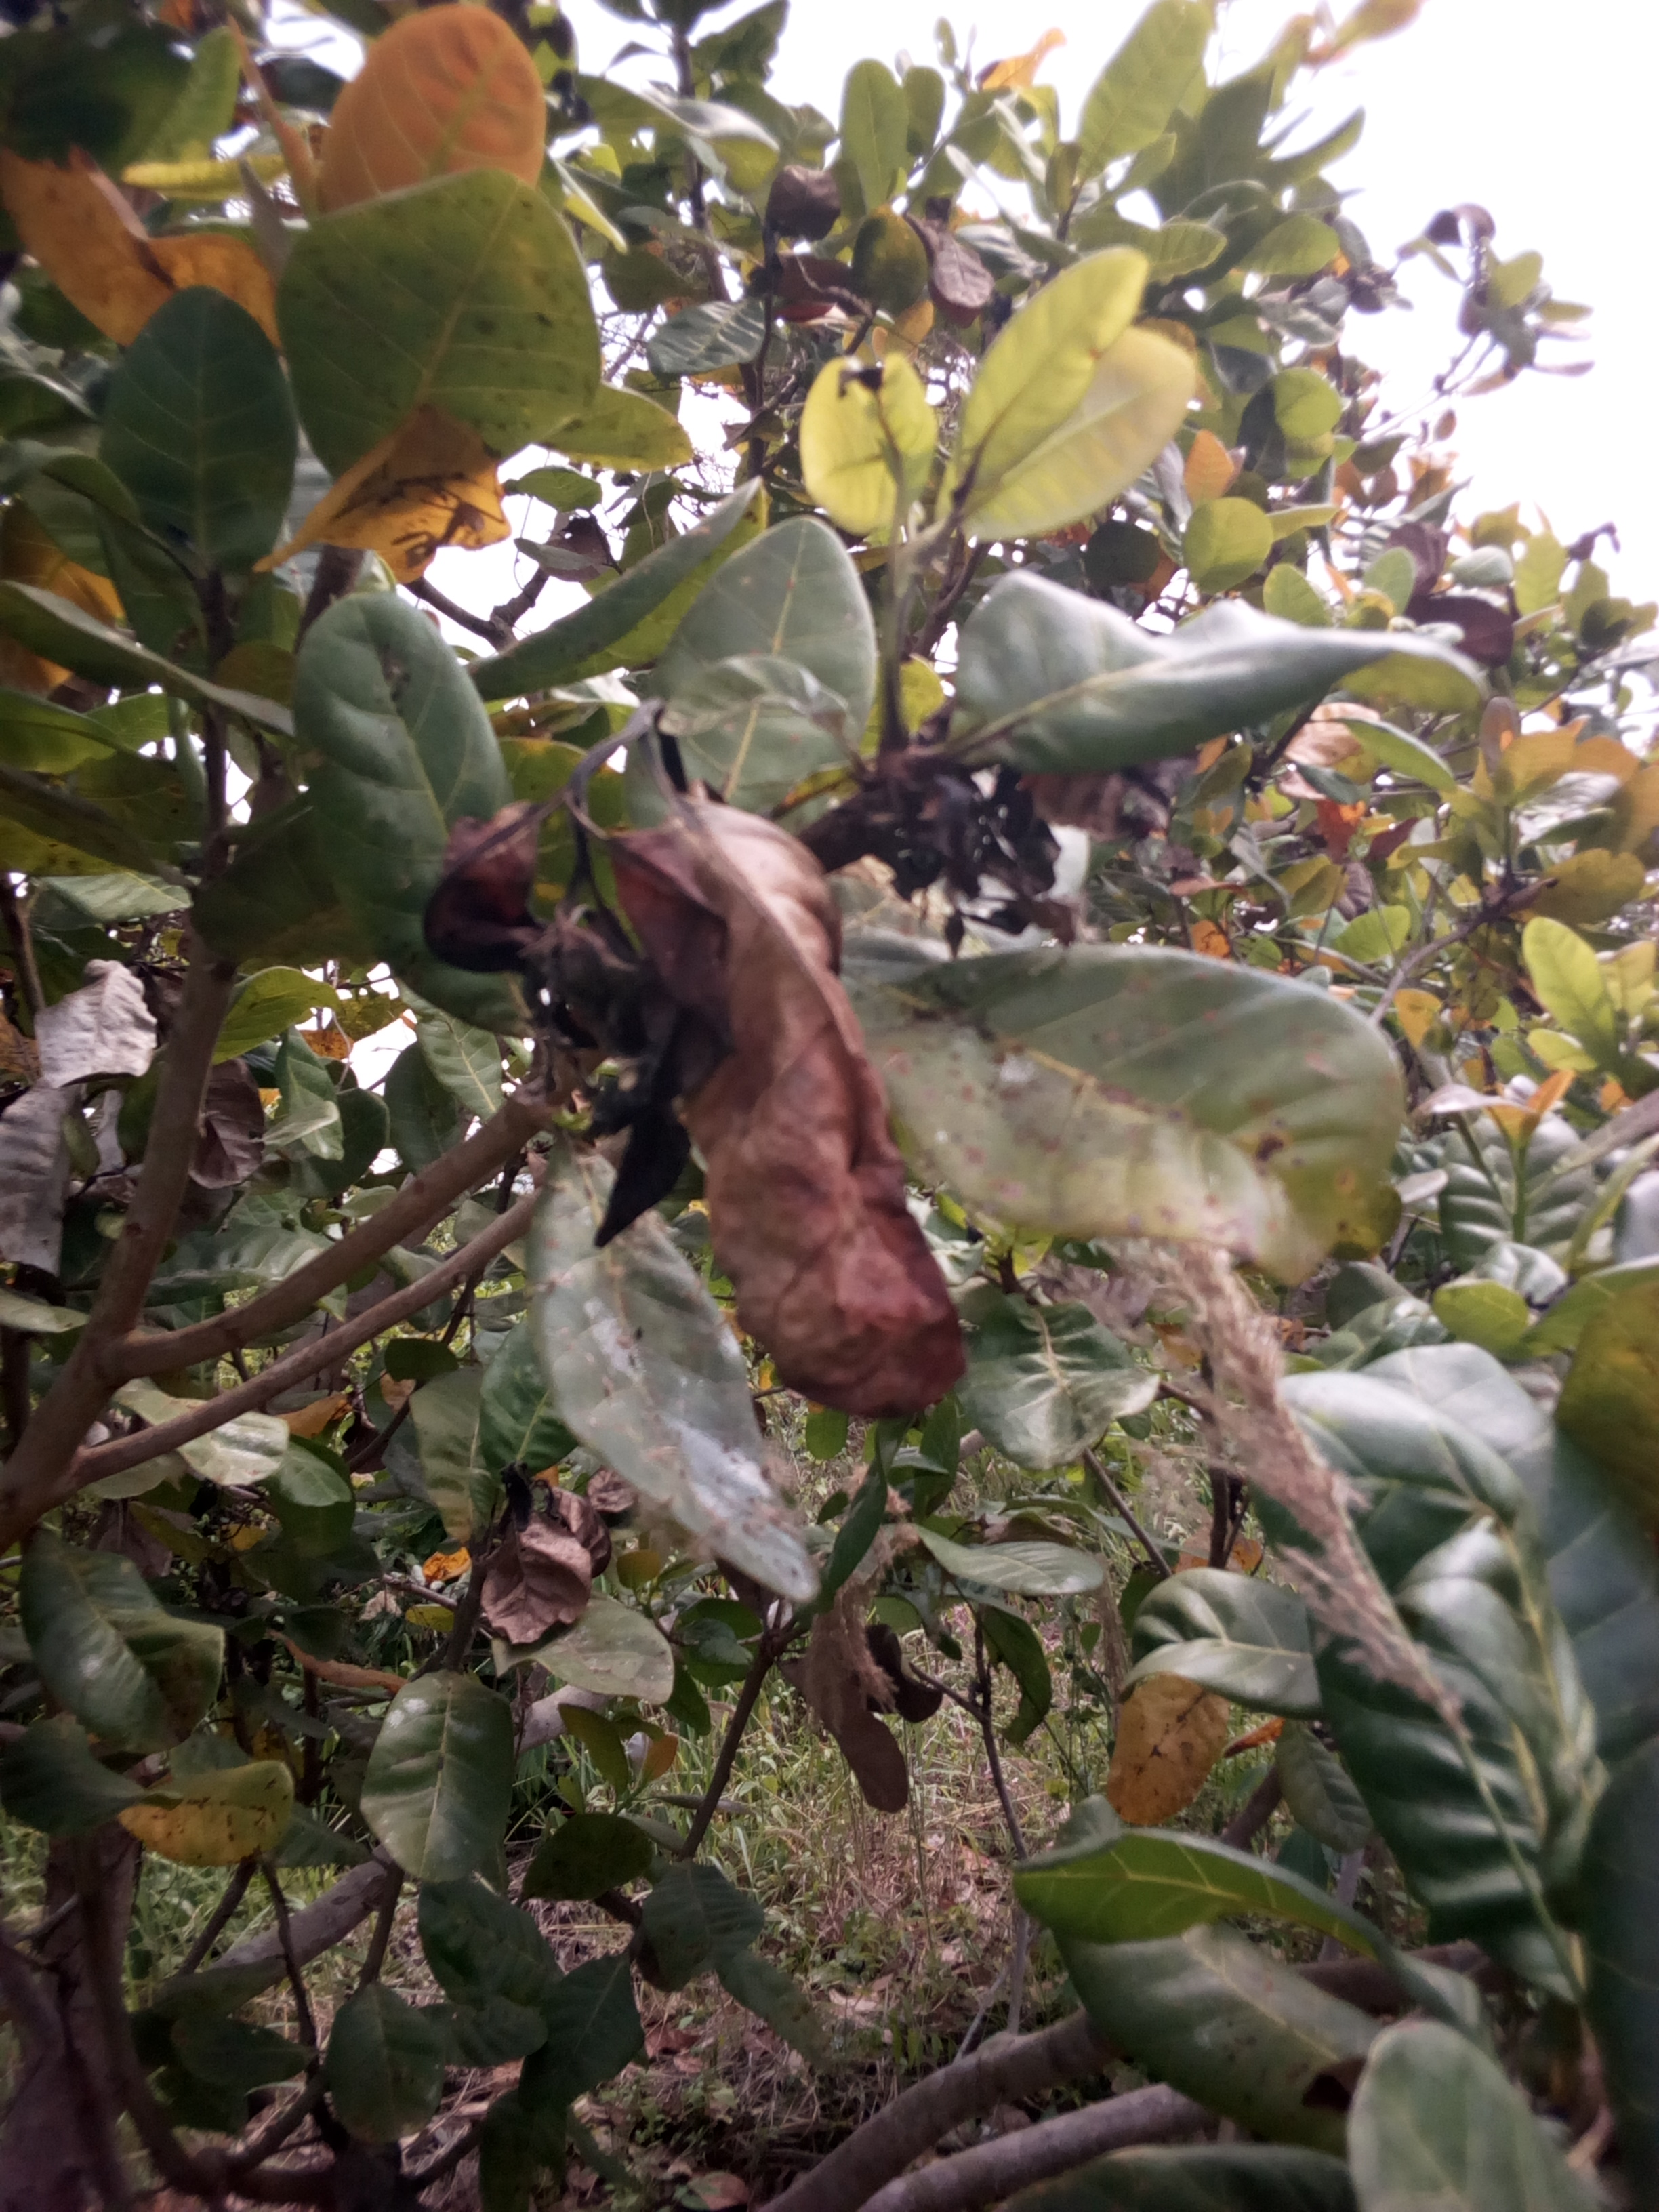Dessèchement des bourgeons: (803, 725, 1103, 979), (432, 784, 613, 995)
